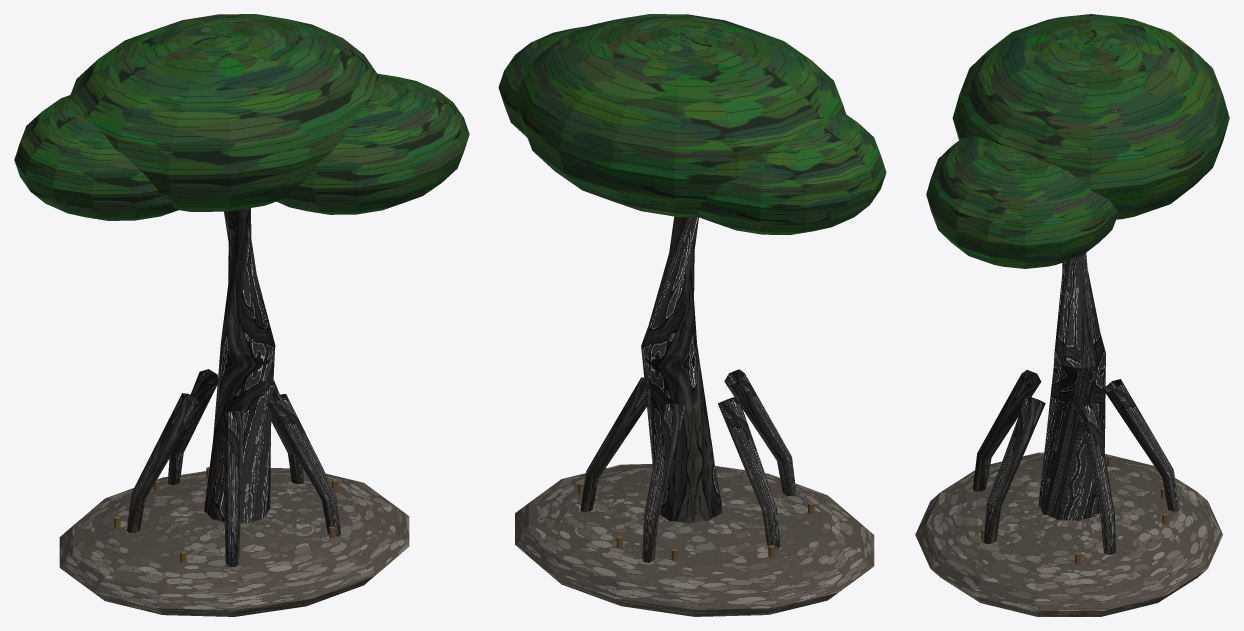
File: ben-do-cay-ban.glb
3 renders of one model, left to right at view 1: azimuth 30°, elevation 25°; view 2: azimuth 150°, elevation 25°; view 3: azimuth 270°, elevation 25°, orthographic. The views are drawn at different scales.
Parts seen in each view (by area): view 1: ben-do-cay-ban; view 2: ben-do-cay-ban; view 3: ben-do-cay-ban.
Boxes of the visible parts, x1=… form: ben-do-cay-ban: x1=14, y1=14, x2=469, y2=616; ben-do-cay-ban: x1=498, y1=14, x2=886, y2=616; ben-do-cay-ban: x1=915, y1=14, x2=1229, y2=616.
Bounding box in the file's own units: 2.05 × 2.63 × 1.43.
Materials: 4 (4 with a texture image).
